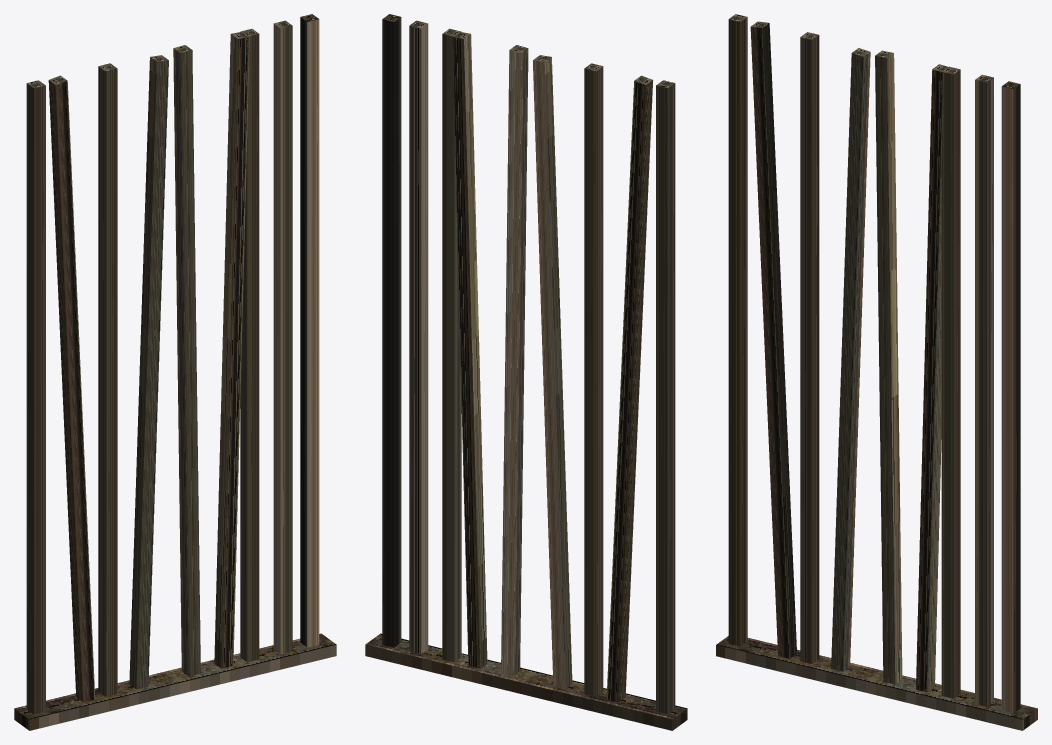
Rendered from cell_door.glb.
The picture shows the model from 3 angles, left to right: view 1: azimuth 30°, elevation 25°; view 2: azimuth 150°, elevation 25°; view 3: azimuth 330°, elevation 25°; orthographic projection.
Parts seen in each view (by area): view 1: Plane.001; view 2: Plane.001; view 3: Plane.001.
Boxes of the visible parts, x1,y1,x2,y2 form: Plane.001: (14, 14, 336, 730); Plane.001: (365, 14, 687, 730); Plane.001: (716, 14, 1037, 730).
Bounding box in the file's own units: 2.4 × 4.76 × 0.2076.
Materials: 1 (1 with a texture image).
